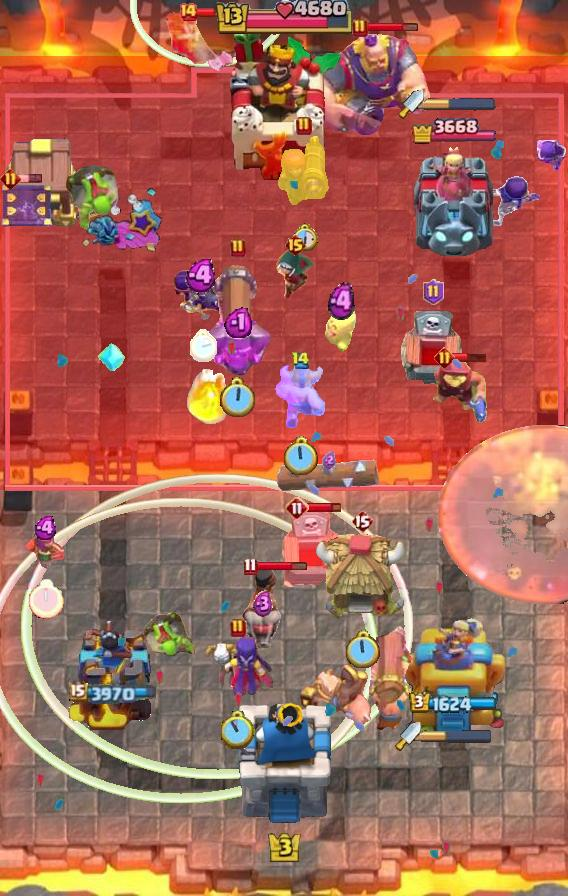axe: (203, 637, 273, 699)
bar: (402, 615, 507, 731), (409, 142, 497, 256)
bar-level: (63, 162, 121, 234), (141, 609, 199, 657)
bat-evolution: (324, 306, 358, 352)
battle-healer: (367, 618, 415, 732)
bomb: (0, 135, 80, 229)
cannon: (21, 526, 71, 572)
clock: (213, 0, 355, 38)
electro-spirit: (185, 260, 220, 293), (329, 283, 356, 322), (224, 306, 252, 338), (34, 516, 59, 540), (253, 590, 273, 618), (322, 451, 336, 469)
elite-barbarian: (241, 564, 285, 650)
elixir: (219, 376, 256, 419), (282, 436, 318, 478), (344, 629, 380, 670), (28, 579, 64, 619), (221, 711, 255, 749), (188, 330, 217, 363), (290, 224, 317, 252)
elixir-golem-mid: (398, 309, 468, 395), (276, 510, 346, 596)
emote: (366, 22, 419, 34), (256, 560, 309, 571), (307, 501, 342, 514), (6, 173, 43, 184), (196, 7, 232, 18), (452, 353, 488, 364)
fireball: (426, 357, 488, 425)
freeze: (299, 664, 377, 730)
furnace: (204, 261, 272, 381)
goblin: (537, 140, 567, 176)
goblin-ball: (483, 173, 543, 229), (172, 268, 232, 324)
goblin-giant: (274, 363, 326, 429)
hog-rider: (164, 9, 236, 77)
ice-spirit-evolution-symbol: (0, 180, 54, 230)
king-tower: (224, 23, 344, 181), (235, 703, 333, 826)
king-tower-bar: (424, 97, 496, 111), (421, 729, 493, 743)
lightning: (309, 33, 430, 139)
mega-minion: (278, 133, 330, 205)
minion: (277, 459, 383, 495)
pad_2: (98, 340, 126, 374)
phoenix-egg: (437, 424, 568, 604)
prince: (315, 532, 409, 622)
queen-tower: (66, 617, 162, 731)
selected: (412, 115, 497, 148), (409, 690, 497, 714), (69, 680, 159, 703)
tesla: (264, 249, 326, 299)
text: (285, 496, 309, 520), (285, 233, 308, 257), (424, 279, 445, 305), (351, 509, 373, 533), (433, 348, 454, 369), (0, 168, 20, 189), (178, 2, 198, 22), (290, 351, 310, 370), (352, 18, 368, 38), (296, 116, 312, 136), (230, 238, 246, 258), (230, 618, 246, 638), (243, 556, 257, 575)
valkyrie: (185, 361, 235, 427)
